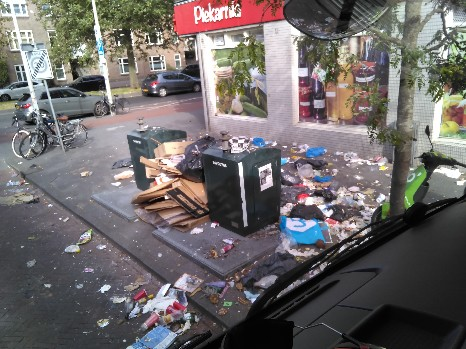Container: (202, 143, 282, 225), (124, 123, 160, 186)
Plastic: (285, 214, 325, 259), (143, 313, 165, 333), (220, 242, 244, 254), (172, 296, 189, 312), (167, 308, 184, 321), (136, 291, 149, 301)
Rest: (158, 139, 200, 225)
Voertuig: (23, 91, 115, 116), (26, 128, 79, 167), (132, 66, 201, 90)
